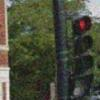traffic lights: (71, 16, 96, 74)
